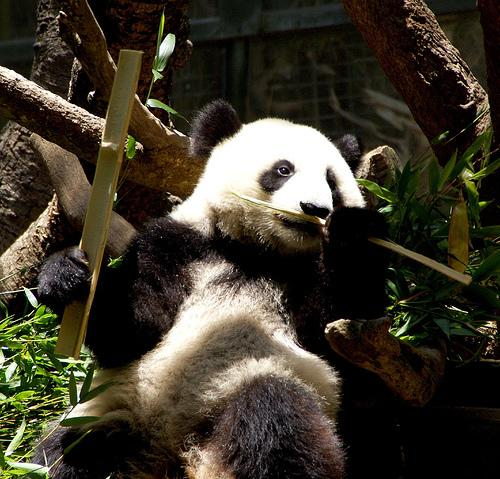panda: (32, 101, 387, 478), (38, 246, 90, 313)
